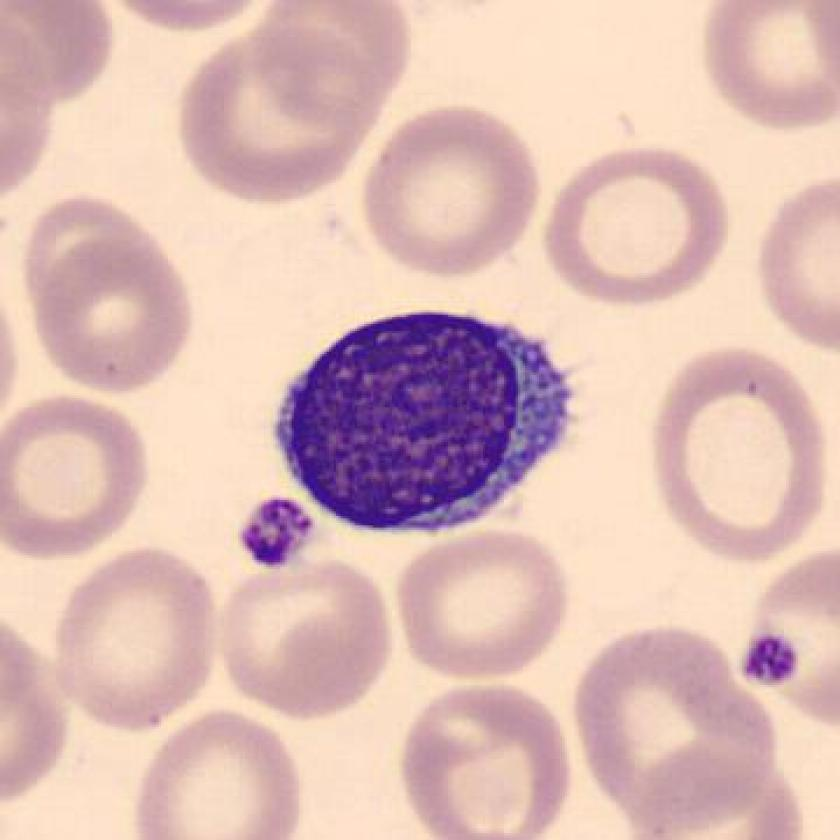lymphocyte: (258, 297, 587, 552)
